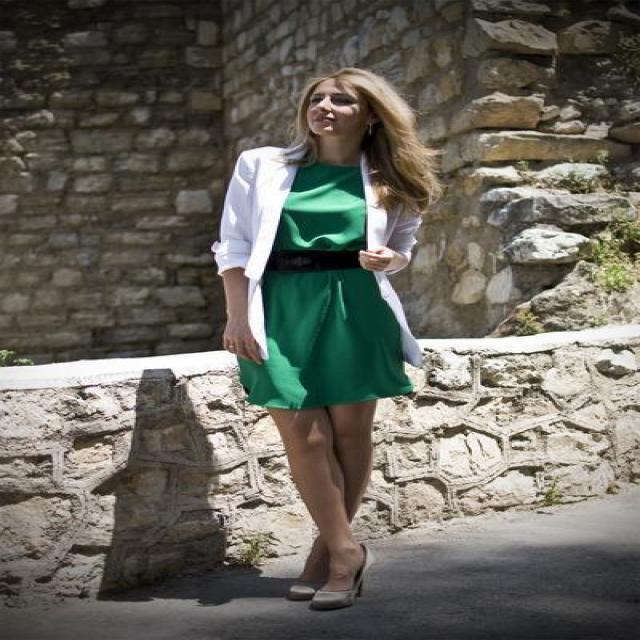dress: (233, 160, 412, 419)
jacket: (211, 146, 442, 370)
shoe: (267, 586, 347, 616)
